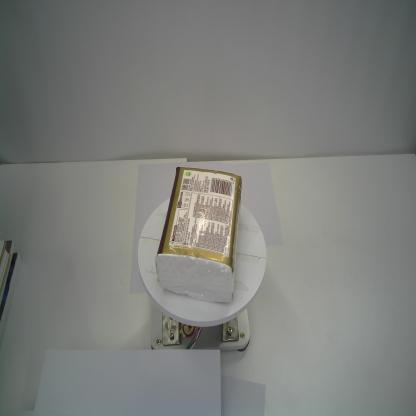Tissue: (155, 166, 242, 303)
